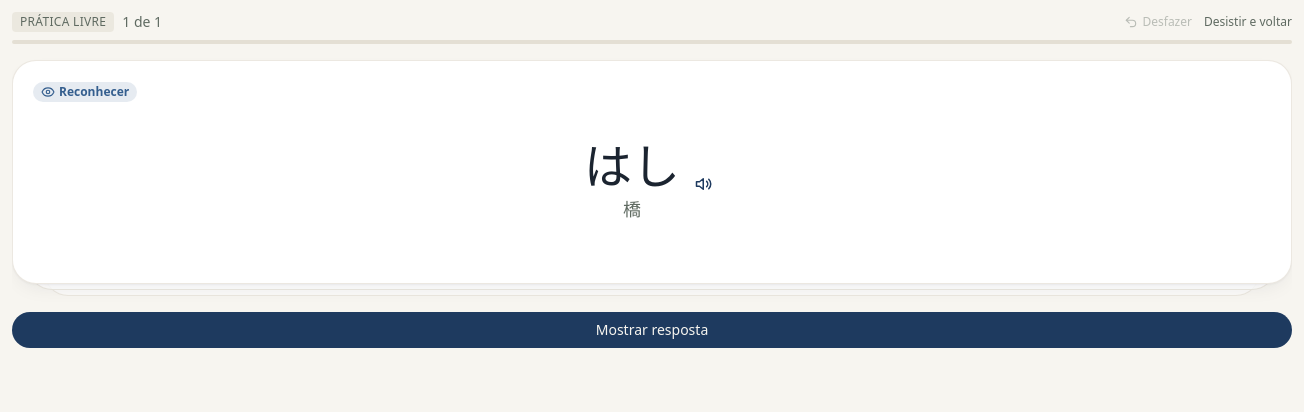
Scenario: StudySession: como a palavra aparece › palavra com kanji: kana em destaque e kanji de apoio; o romaji só na resposta
Expected: the text "はし" is shown, [584, 144, 680, 192]
Expected: the element titled "kanji: 橋" is shown, [623, 196, 641, 224]
Click the button "Mostrar resposta" at [652, 330], box [12, 312, 1292, 348]
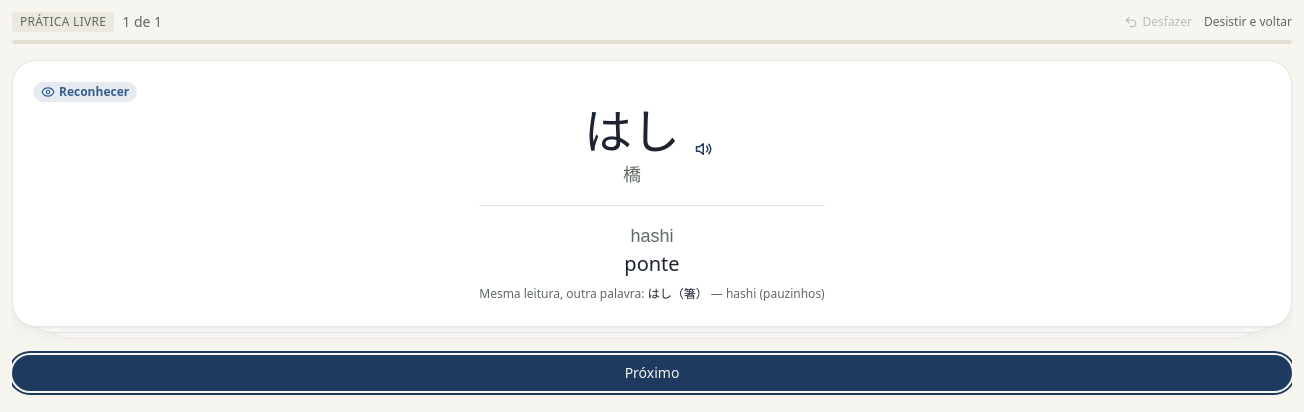
Result: the text "hashi" is shown at [630, 226, 674, 246]
